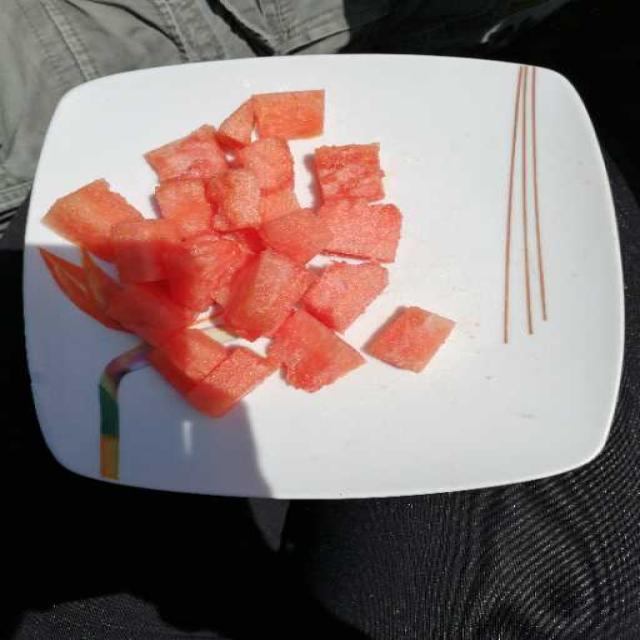watermelon-fresh: (45, 82, 452, 410)
